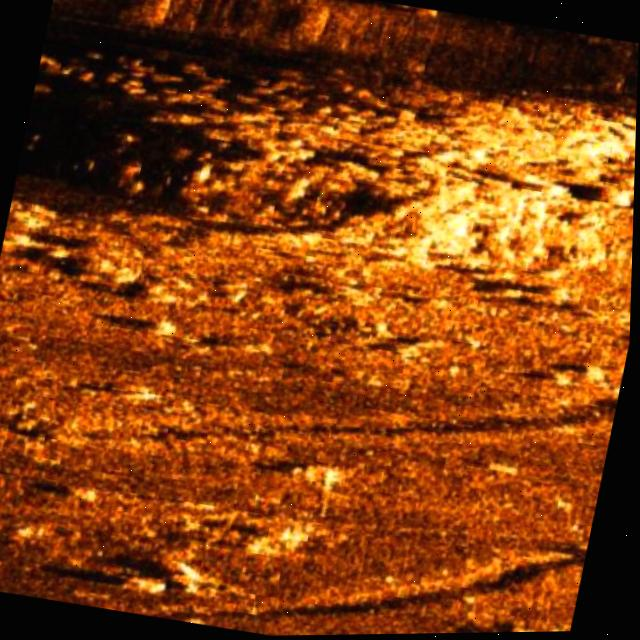bedrock group: (0, 5, 640, 390)
